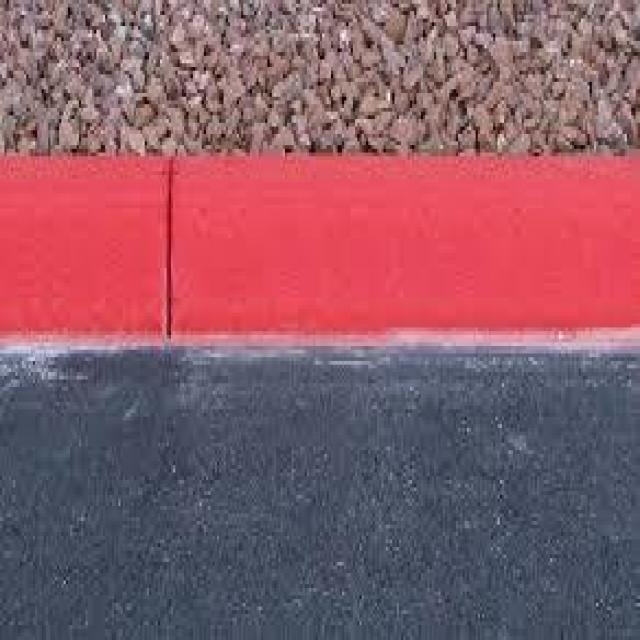curb: (1, 154, 639, 342)
